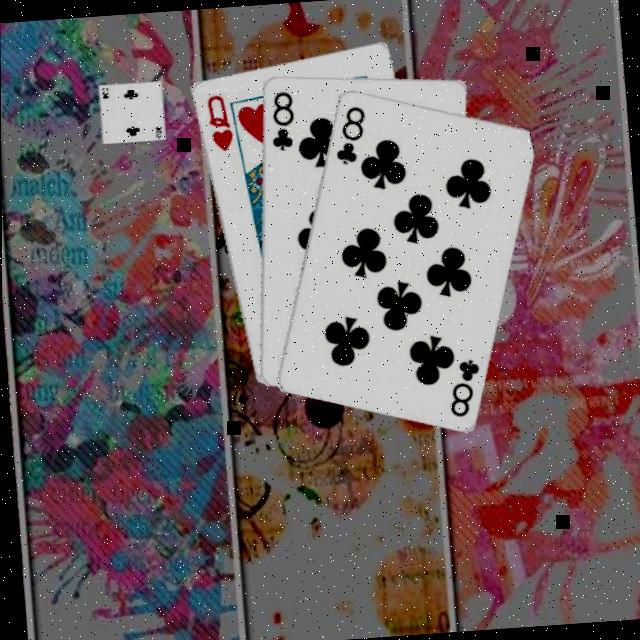8C: (327, 99, 369, 165), (440, 352, 482, 418), (262, 84, 296, 152)
QH: (200, 89, 233, 152)
